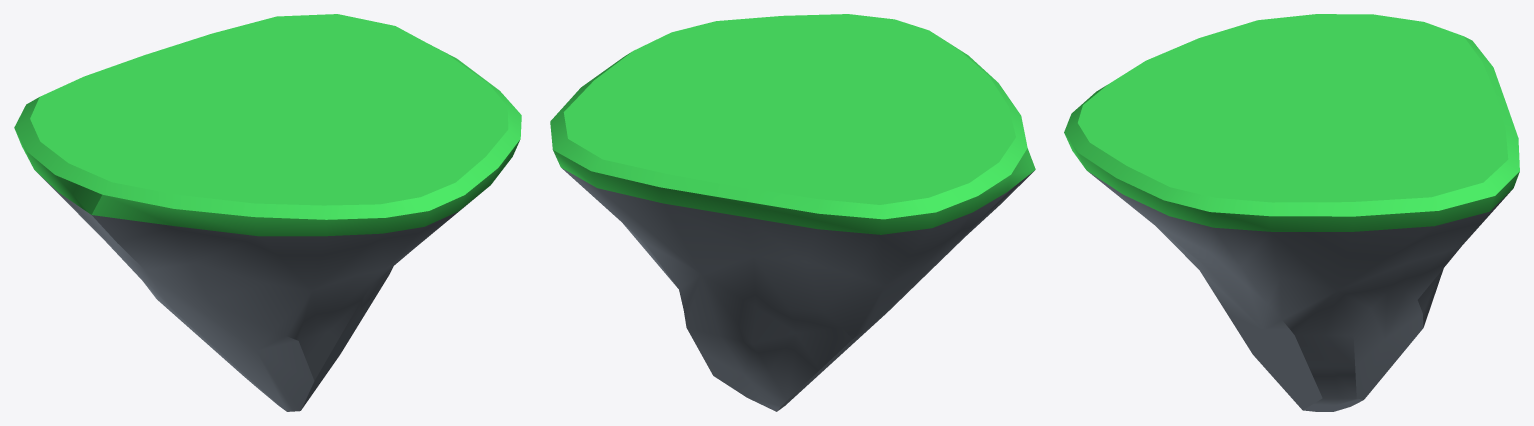
File: island_02.fbx
The picture shows the model from 3 angles, left to right: view 1: azimuth 30°, elevation 25°; view 2: azimuth 150°, elevation 25°; view 3: azimuth 270°, elevation 25°; orthographic projection. The views are drawn at different scales.
Visible parts, largest first — view 1: Cube; view 2: Cube; view 3: Cube.
Boxes of the visible parts, x1=… form: Cube: x1=14, y1=14, x2=521, y2=411; Cube: x1=550, y1=14, x2=1035, y2=411; Cube: x1=1064, y1=14, x2=1519, y2=411.
Bounding box in the file's own units: 3769 × 2587 × 3634.
